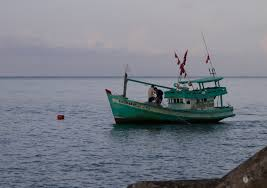tau_dansu: (108, 61, 234, 122)
